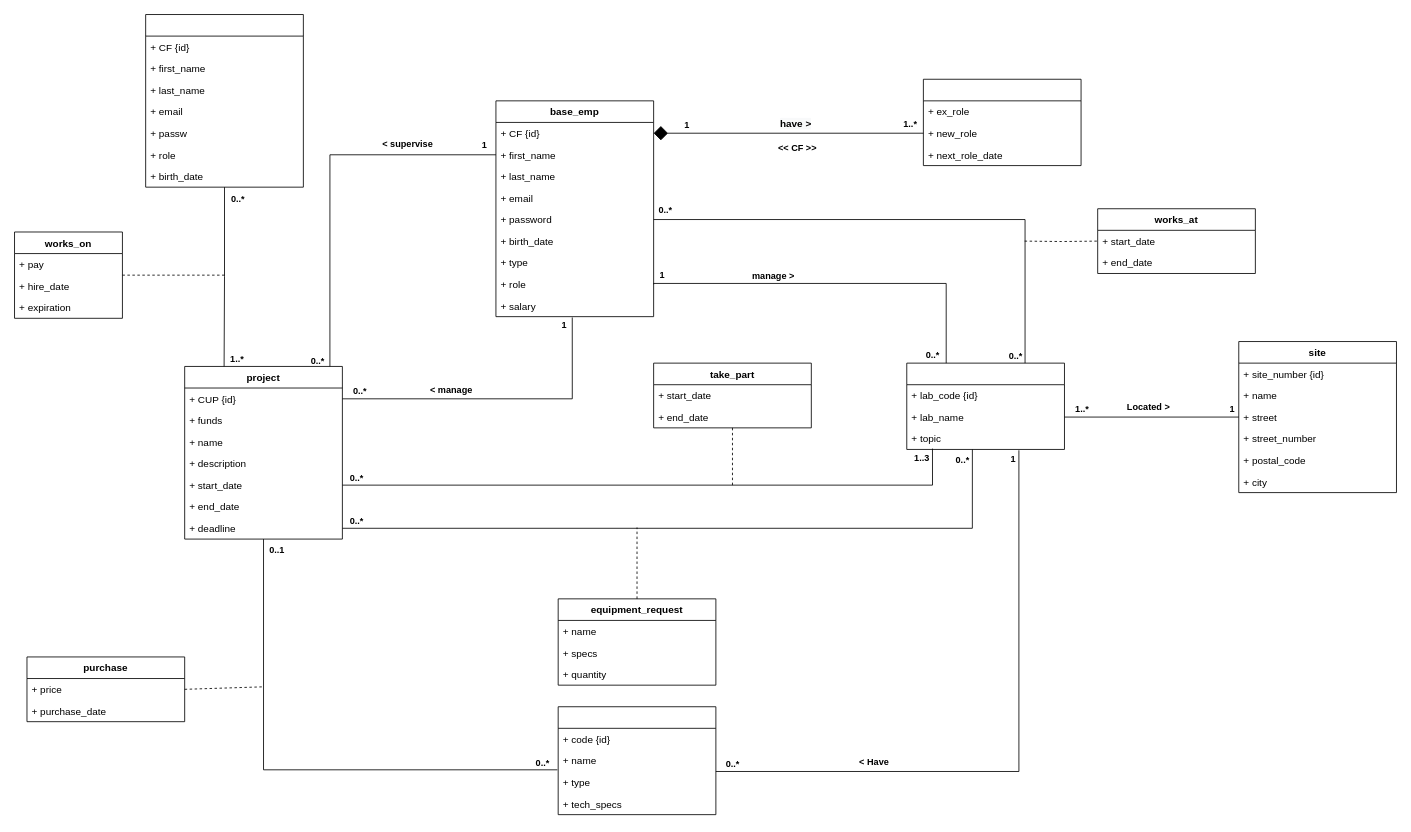
Some shapes in this 1411 by 832 pixel diagram are drawn without their labels. The box of each missing label's shape, as (x1, y1, x2, y2) in pixels:
CareerLog: (923, 78, 1081, 166)
equipment: (557, 706, 716, 815)
laboratory: (906, 362, 1064, 449)
project_salaried: (145, 14, 303, 187)
